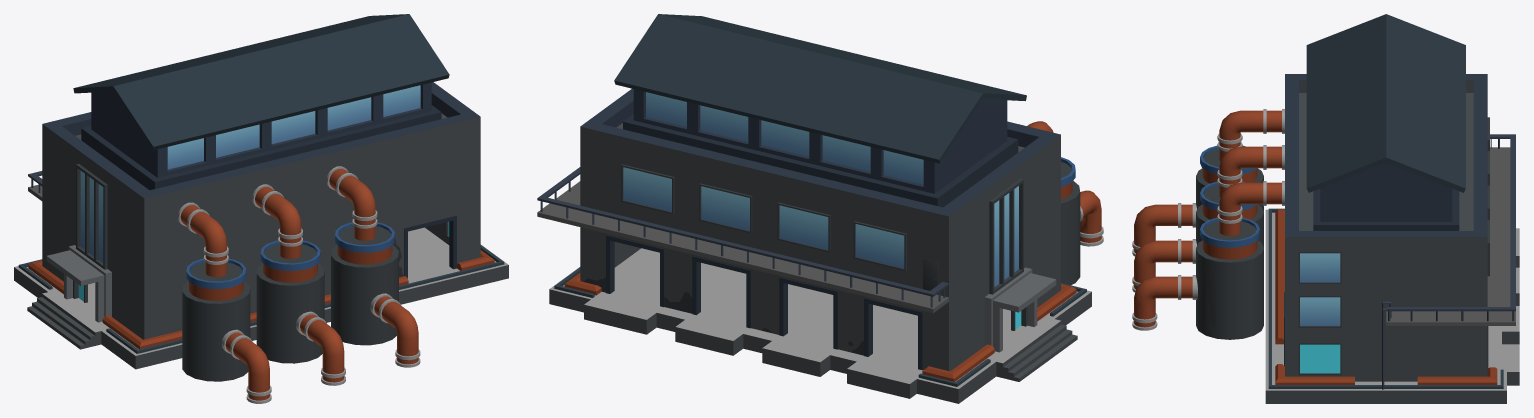
Rendered from SM_Buildings_Factory_01.fbx.
The picture shows the model from 3 angles, left to right: view 1: azimuth 30°, elevation 25°; view 2: azimuth 150°, elevation 25°; view 3: azimuth 270°, elevation 25°; orthographic projection. The views are drawn at different scales.
Parts seen in each view (by area): view 1: SM_Buildings_Factory_01; view 2: SM_Buildings_Factory_01; view 3: SM_Buildings_Factory_01.
Part boxes in pixels (x1,y1,x2,y2): SM_Buildings_Factory_01: [14, 14, 508, 403]; SM_Buildings_Factory_01: [537, 14, 1103, 403]; SM_Buildings_Factory_01: [1132, 14, 1519, 403].
Size of the model in its own units: 32.33 by 17.69 by 27.27.
